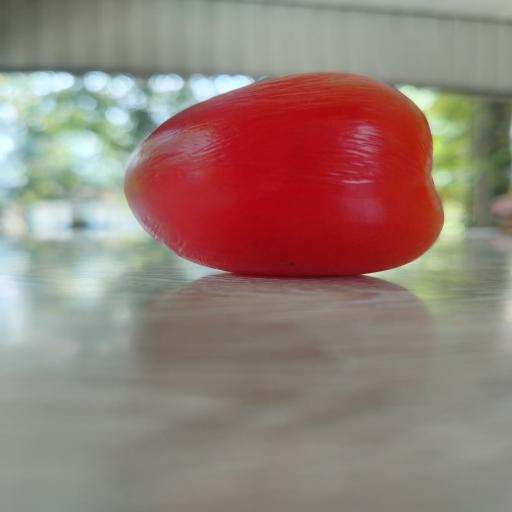spoiled: (125, 73, 443, 276)
